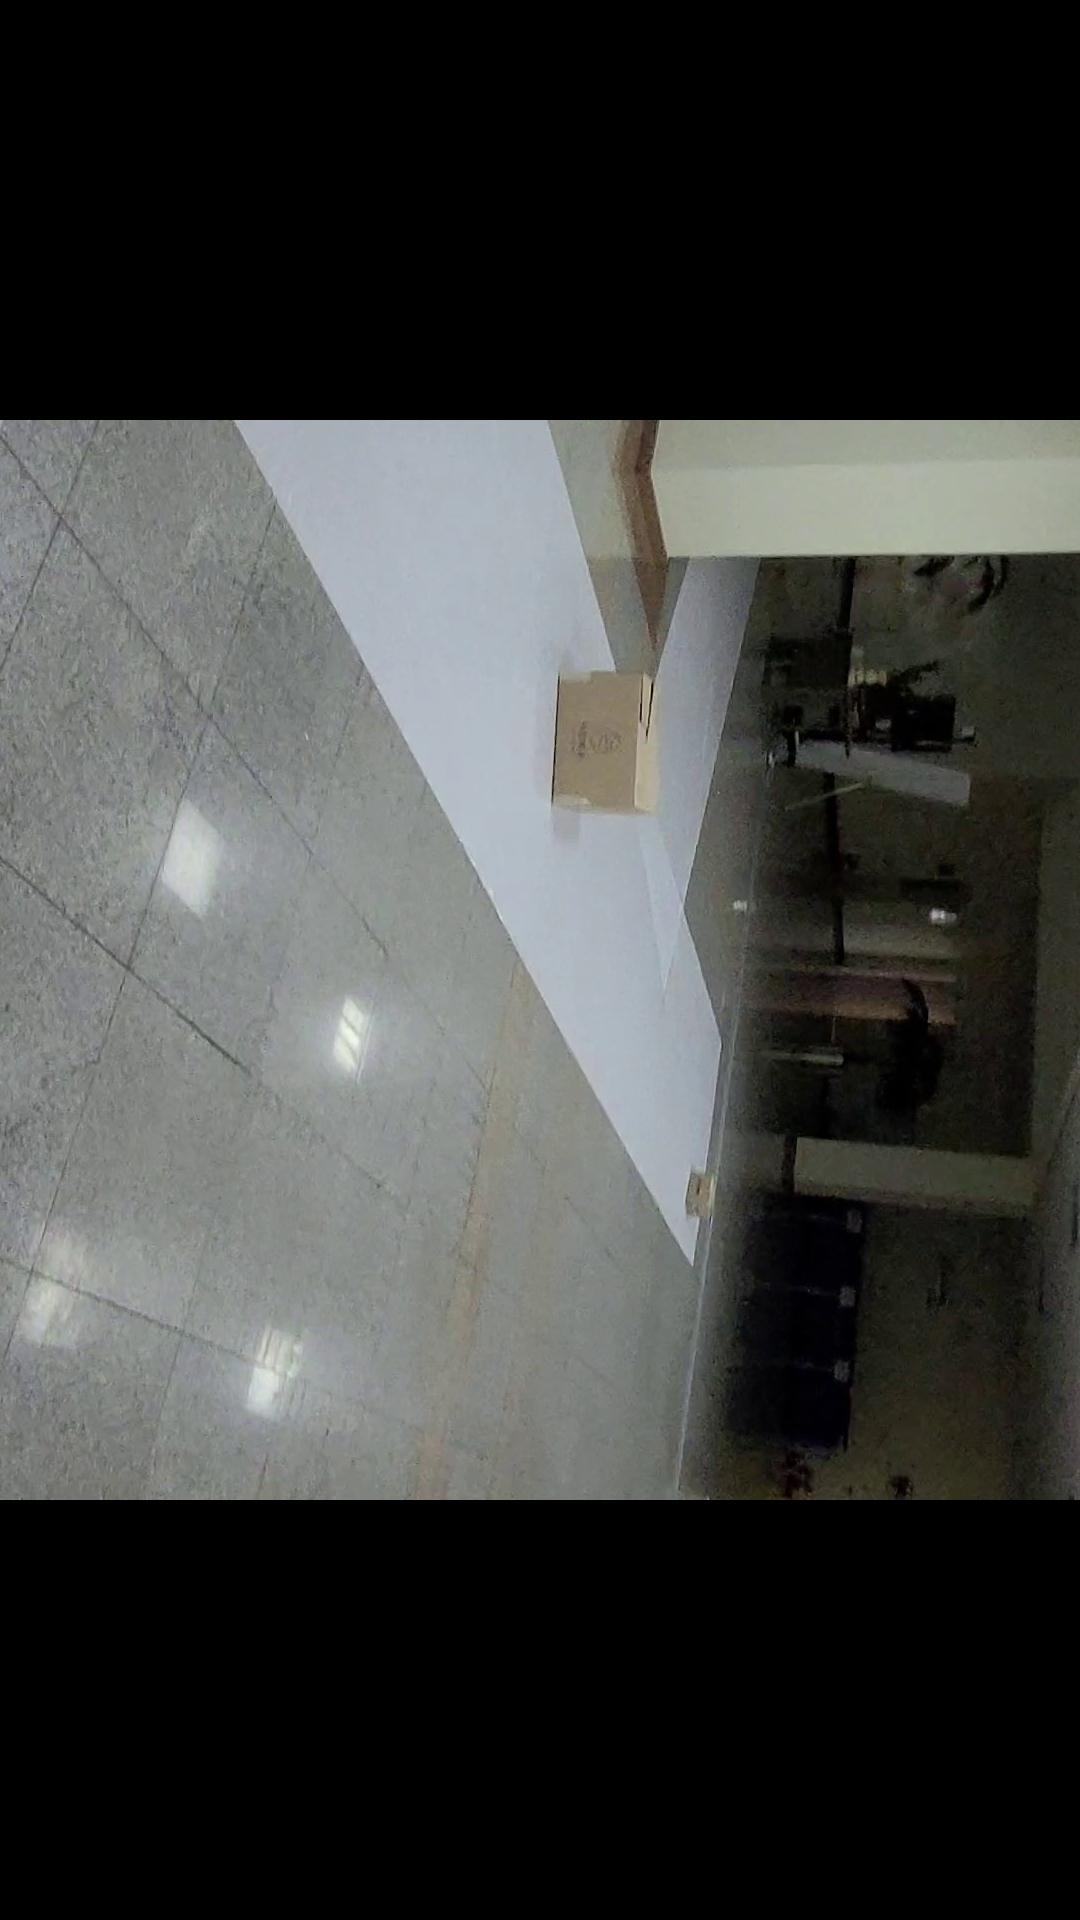Box: (527, 613, 687, 862), (626, 1151, 727, 1255)
